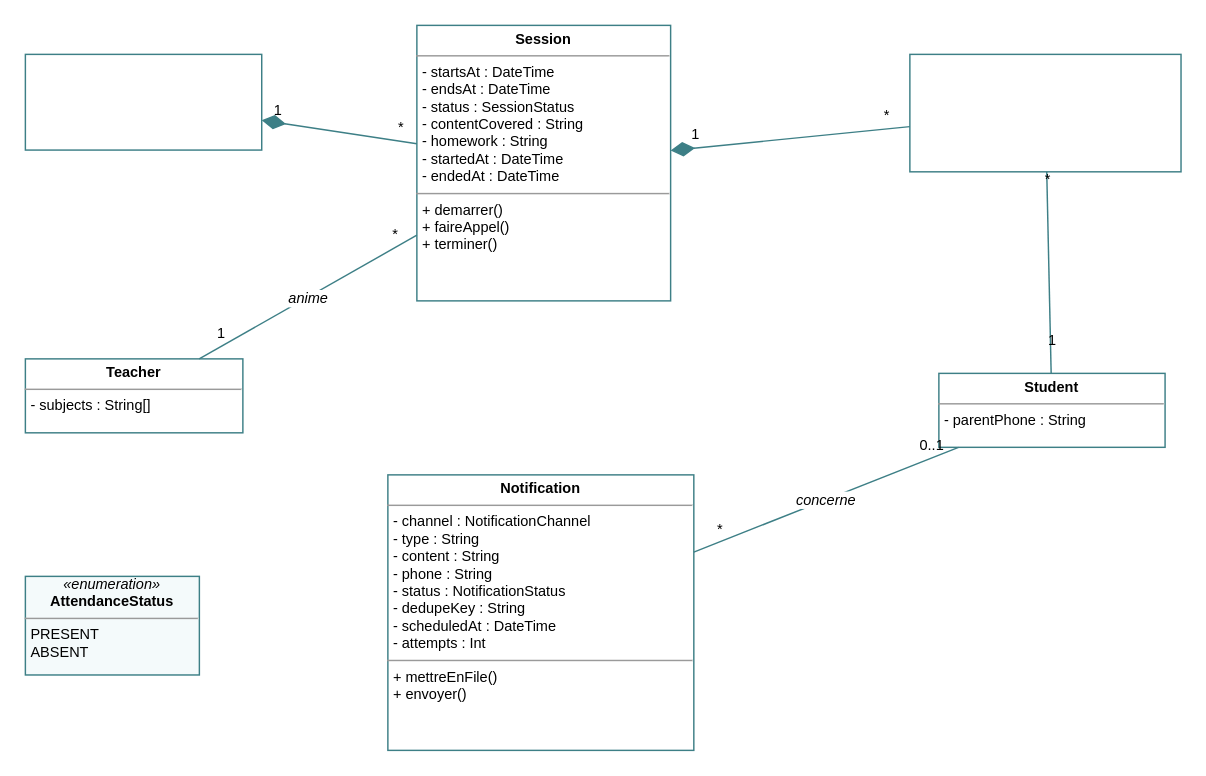
This 1206x776 diagram has some shape labels left out. Each missing label, with the centre of its shape:
"Attendance - status : AttendanceStatus - note : String - markedAt : DateTime" belongs at (x=1044, y=112).
"Group - name : String - monthlySessions : Int" belongs at (x=143, y=101).
